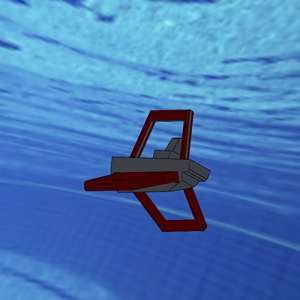submarine: (65, 93, 244, 240)
